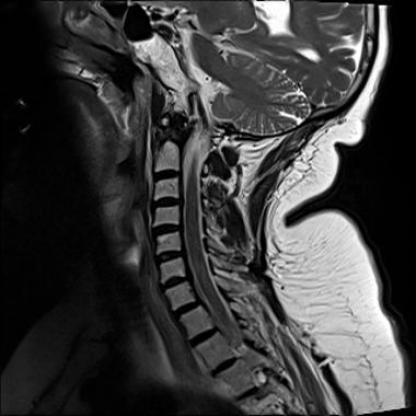Disc Protrusionrotation: (156, 276, 192, 289), (154, 249, 186, 263), (152, 195, 184, 209)
